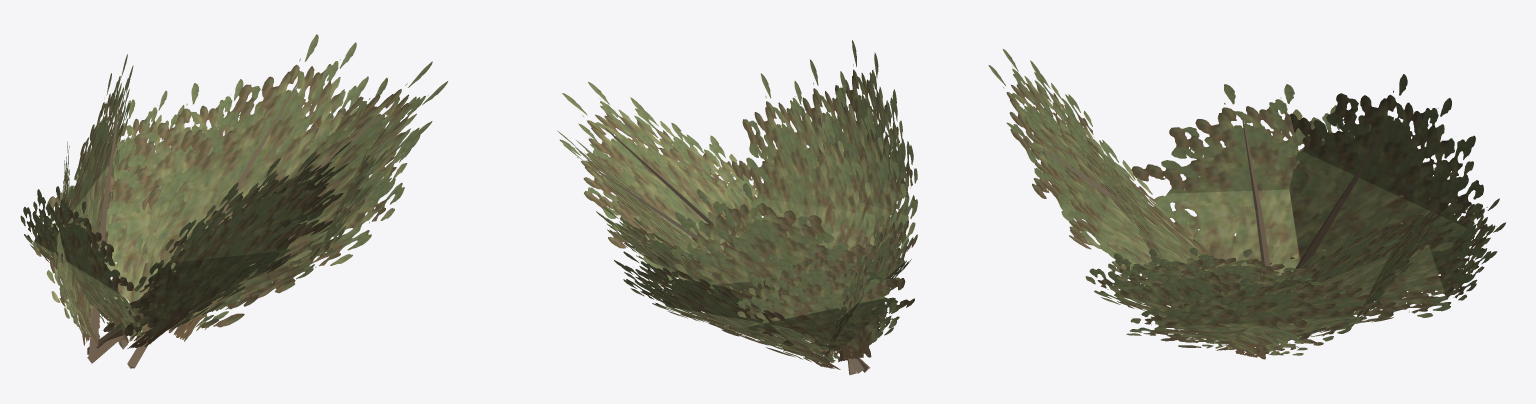
Rendered from Bush_07_Windswept.fbx.
The picture shows the model from 3 angles, left to right: view 1: azimuth 30°, elevation 25°; view 2: azimuth 150°, elevation 25°; view 3: azimuth 270°, elevation 25°; orthographic projection. The views are drawn at different scales.
Parts seen in each view (by area): view 1: Bush_07_Windswept.001; view 2: Bush_07_Windswept.001; view 3: Bush_07_Windswept.001.
Part boxes in pixels (x1,y1,x2,y2): Bush_07_Windswept.001: [20, 34, 447, 368]; Bush_07_Windswept.001: [557, 40, 917, 375]; Bush_07_Windswept.001: [988, 49, 1505, 359].
Size of the model in its own units: 127 by 79.66 by 118.
